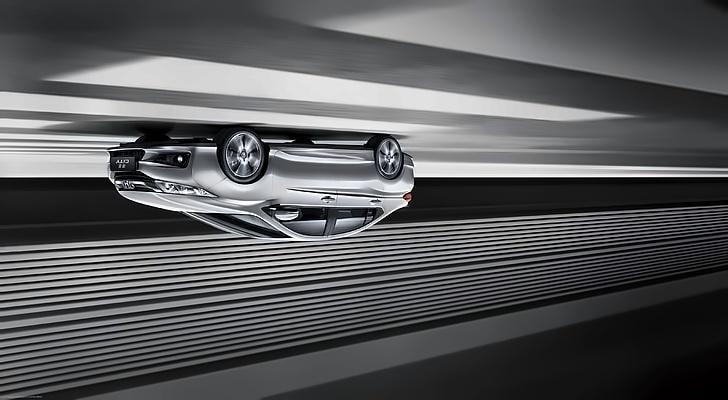Car hood: (114, 188, 243, 218)
Driver-s door - -F-R-: (267, 134, 339, 248)
Fender - -F-R-: (216, 163, 272, 195)
Fender - -R-R-: (372, 168, 406, 188)
Front bumper: (106, 143, 225, 180)
Headlight - -R-: (154, 178, 220, 201)
Passenger-s door - -R-R-: (322, 134, 385, 248)
Rear bumper: (401, 150, 419, 188)
Rear light - -R-: (401, 191, 414, 205)
Side bumper - -R-: (263, 141, 375, 169)
Side mirror - -R-: (273, 206, 303, 223)
